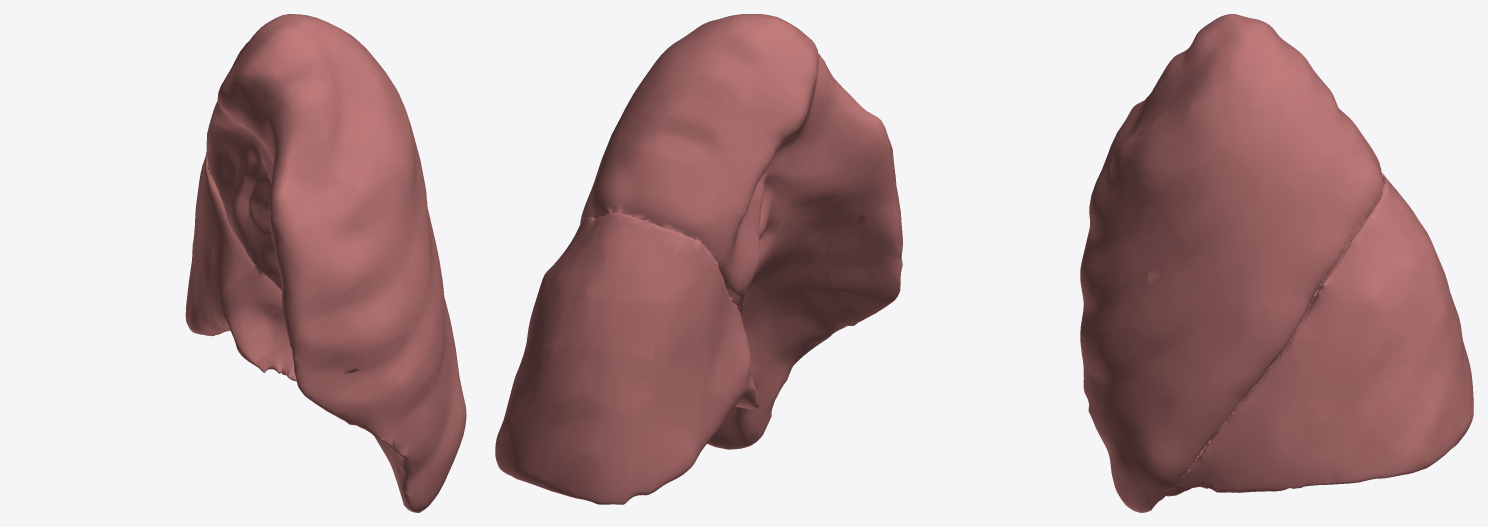
The model's file is lungs_rot_right.obj.
3 renders of one model, left to right at view 1: azimuth 30°, elevation 25°; view 2: azimuth 150°, elevation 25°; view 3: azimuth 270°, elevation 25°, orthographic. The views are drawn at different scales.
Bounding box in the file's own units: 2.9 × 2.88 × 2.27.
